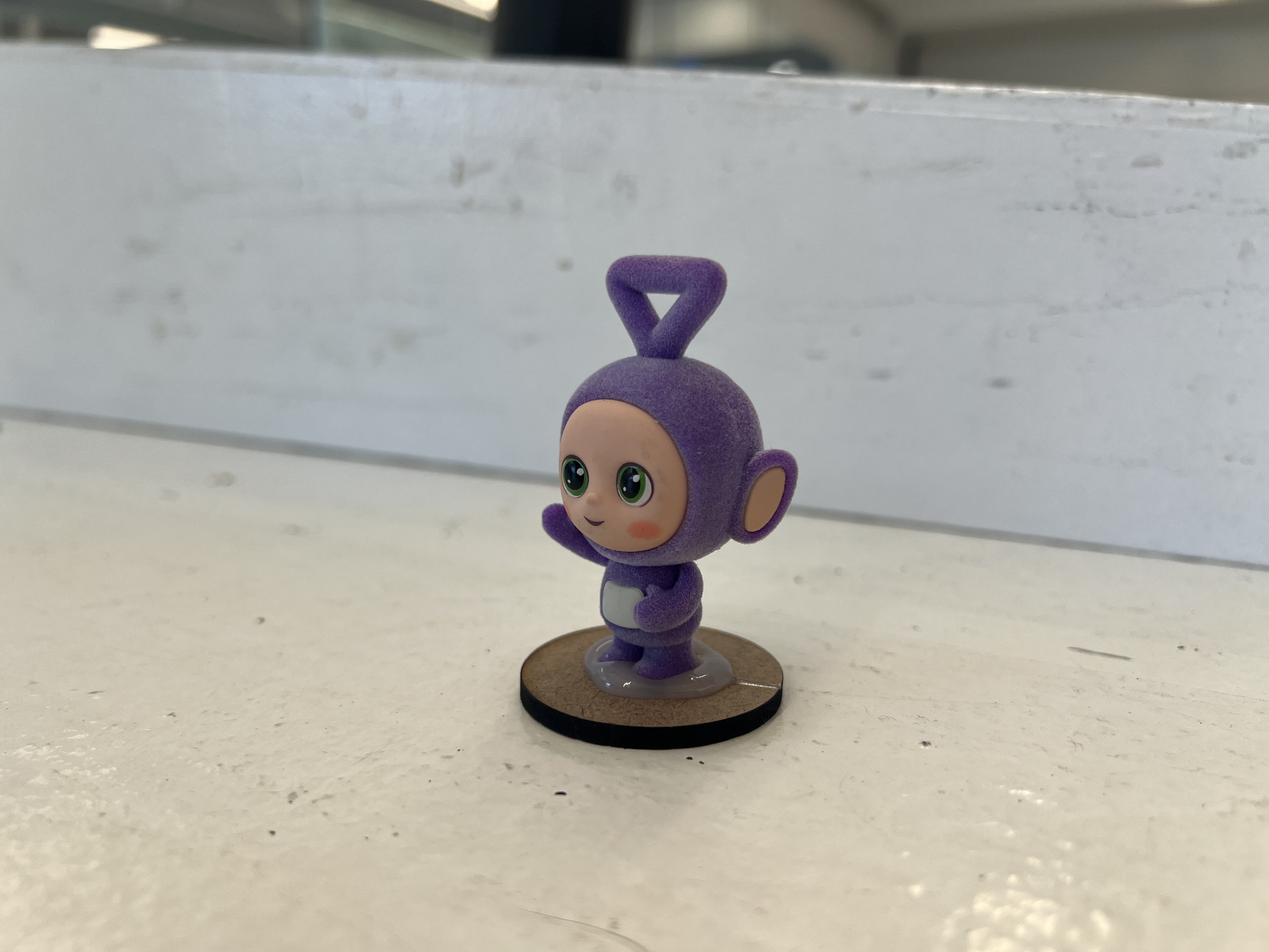teletubby: (543, 256, 798, 679)
